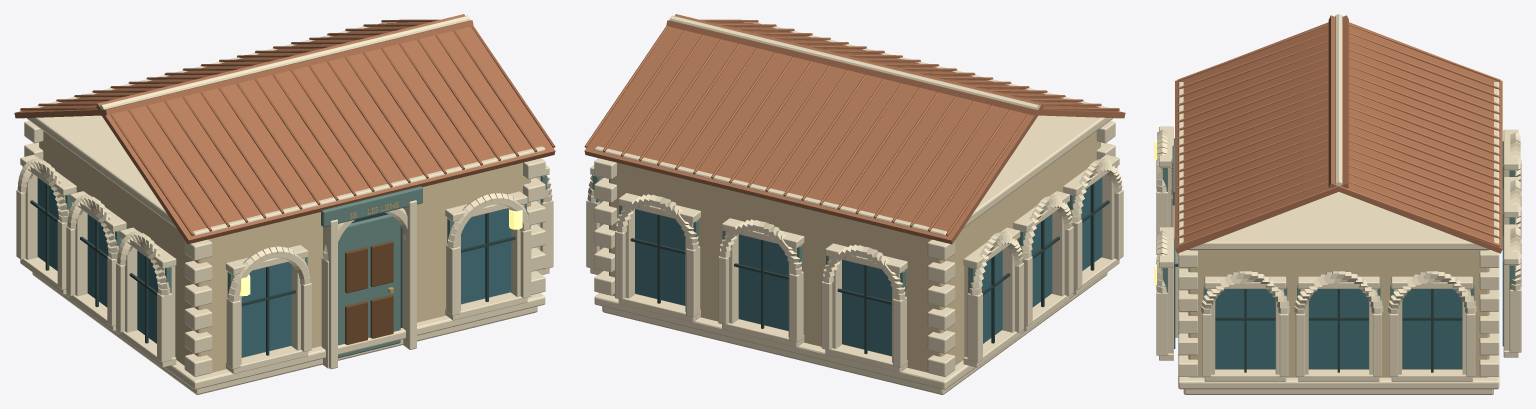
The model's file is espagne-1.glb.
3 renders of one model, left to right at view 1: azimuth 30°, elevation 25°; view 2: azimuth 150°, elevation 25°; view 3: azimuth 270°, elevation 25°, orthographic. The views are drawn at different scales.
Parts seen in each view (by area): view 1: espagne-1_Regional roof.006, espagne-1_Dressed stone.006, espagne-1_Masonry plaster.006, espagne-1_Window blue, espagne-1_Regional painted wood.006, espagne-1_Walnut, espagne-1_Forged midnight, espagne-1_Warm light; view 2: espagne-1_Regional roof.006, espagne-1_Dressed stone.006, espagne-1_Masonry plaster.006, espagne-1_Window blue, espagne-1_Forged midnight, espagne-1_Regional painted wood.006; view 3: espagne-1_Regional roof.006, espagne-1_Dressed stone.006, espagne-1_Window blue, espagne-1_Masonry plaster.006, espagne-1_Forged midnight, espagne-1_Regional painted wood.006.
Part boxes in pixels (bbox=[...]): espagne-1_Regional roof.006: bbox=[14, 14, 555, 244]; espagne-1_Dressed stone.006: bbox=[16, 15, 553, 394]; espagne-1_Masonry plaster.006: bbox=[39, 131, 530, 372]; espagne-1_Window blue: bbox=[37, 177, 511, 357]; espagne-1_Regional painted wood.006: bbox=[22, 166, 547, 358]; espagne-1_Walnut: bbox=[345, 241, 393, 344]; espagne-1_Forged midnight: bbox=[30, 183, 515, 355]; espagne-1_Warm light: bbox=[239, 209, 522, 296]; espagne-1_Regional roof.006: bbox=[584, 14, 1125, 244]; espagne-1_Dressed stone.006: bbox=[586, 15, 1123, 394]; espagne-1_Masonry plaster.006: bbox=[609, 131, 1100, 372]; espagne-1_Window blue: bbox=[635, 177, 1102, 355]; espagne-1_Forged midnight: bbox=[630, 183, 1109, 354]; espagne-1_Regional painted wood.006: bbox=[592, 166, 1117, 296]; espagne-1_Regional roof.006: bbox=[1175, 15, 1502, 253]; espagne-1_Dressed stone.006: bbox=[1156, 14, 1521, 394]; espagne-1_Window blue: bbox=[1174, 138, 1503, 369]; espagne-1_Masonry plaster.006: bbox=[1188, 250, 1489, 377]; espagne-1_Forged midnight: bbox=[1175, 263, 1462, 372]; espagne-1_Regional painted wood.006: bbox=[1162, 145, 1515, 300].
Size of the model in its own units: 14.12 by 8.03 by 12.18.
